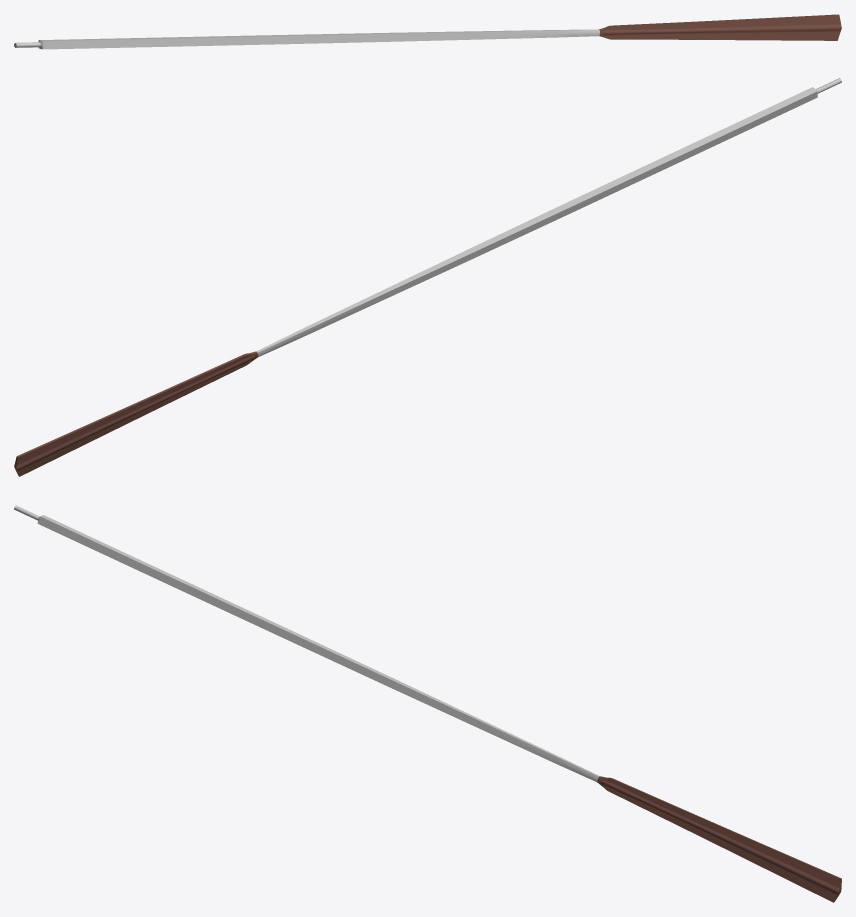
Rendered from right_oar.obj.
3 views of the same model, one above another, from view 1: azimuth 30°, elevation 25°; view 2: azimuth 210°, elevation 25°; view 3: azimuth 330°, elevation 25° (orthographic).
Parts seen in each view (by area): view 1: Ship11_Oar_12; view 2: Ship11_Oar_12; view 3: Ship11_Oar_12.
Boxes of the visible parts, bbox=[...] form: Ship11_Oar_12: bbox=[14, 14, 841, 49]; Ship11_Oar_12: bbox=[14, 78, 841, 476]; Ship11_Oar_12: bbox=[14, 505, 841, 902].
Bounding box in the file's own units: 576 × 132 × 6.96.
